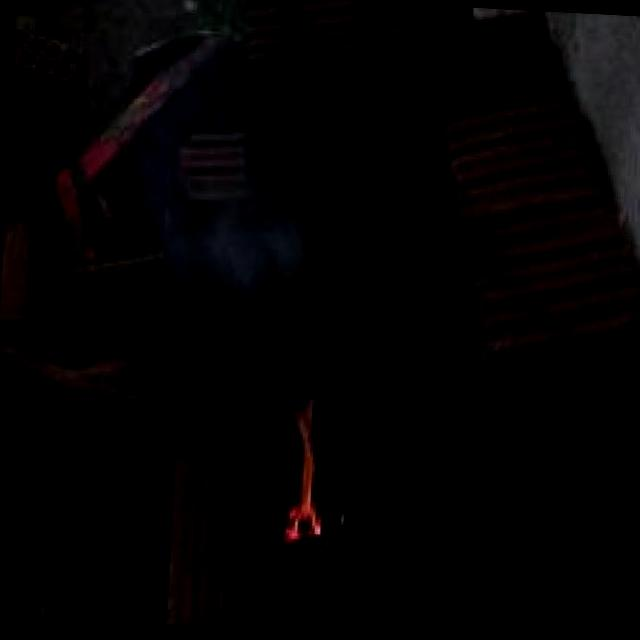fire: (264, 386, 360, 568)
